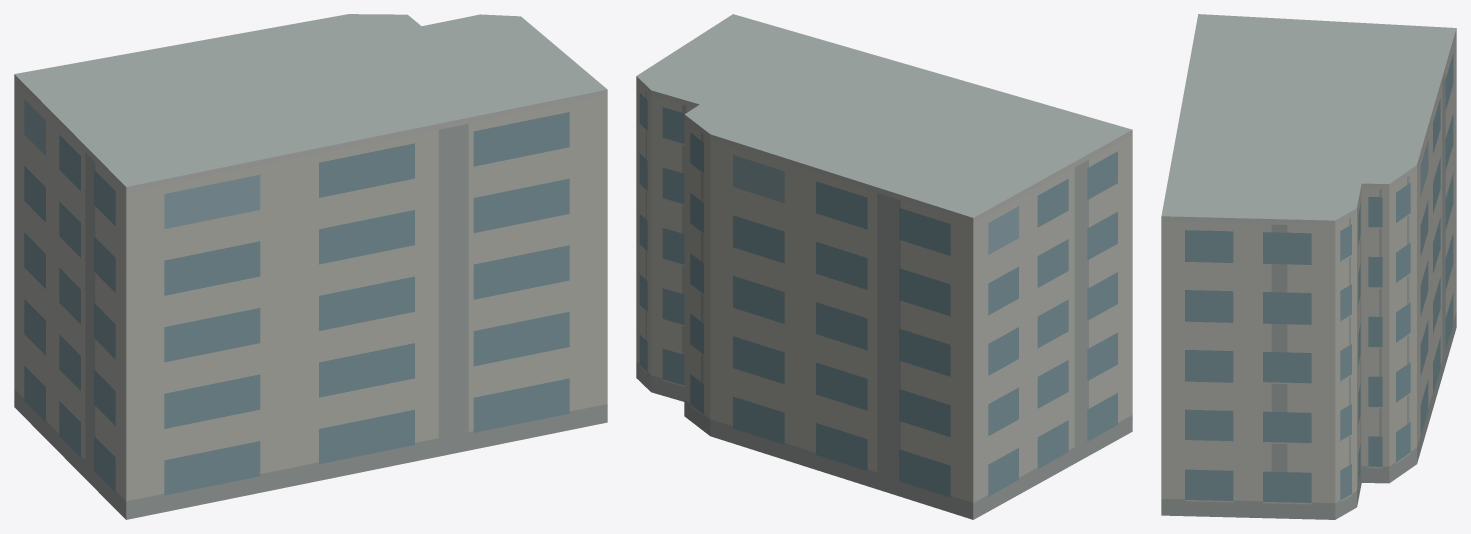
File: survey-upis-32762598.glb
3 views of the same model, side by side, from view 1: azimuth 30°, elevation 25°; view 2: azimuth 150°, elevation 25°; view 3: azimuth 270°, elevation 25° (orthographic). The views are drawn at different scales.
Parts seen in each view (by area): view 1: survey-upis-32762598.tmp; view 2: survey-upis-32762598.tmp; view 3: survey-upis-32762598.tmp.
Part boxes in pixels (left/top/right/bottom): survey-upis-32762598.tmp: left=14, top=14, right=607, bottom=519; survey-upis-32762598.tmp: left=636, top=14, right=1132, bottom=519; survey-upis-32762598.tmp: left=1161, top=14, right=1456, bottom=519.
Bounding box in the file's own units: 19.63 × 13.25 × 11.86.
